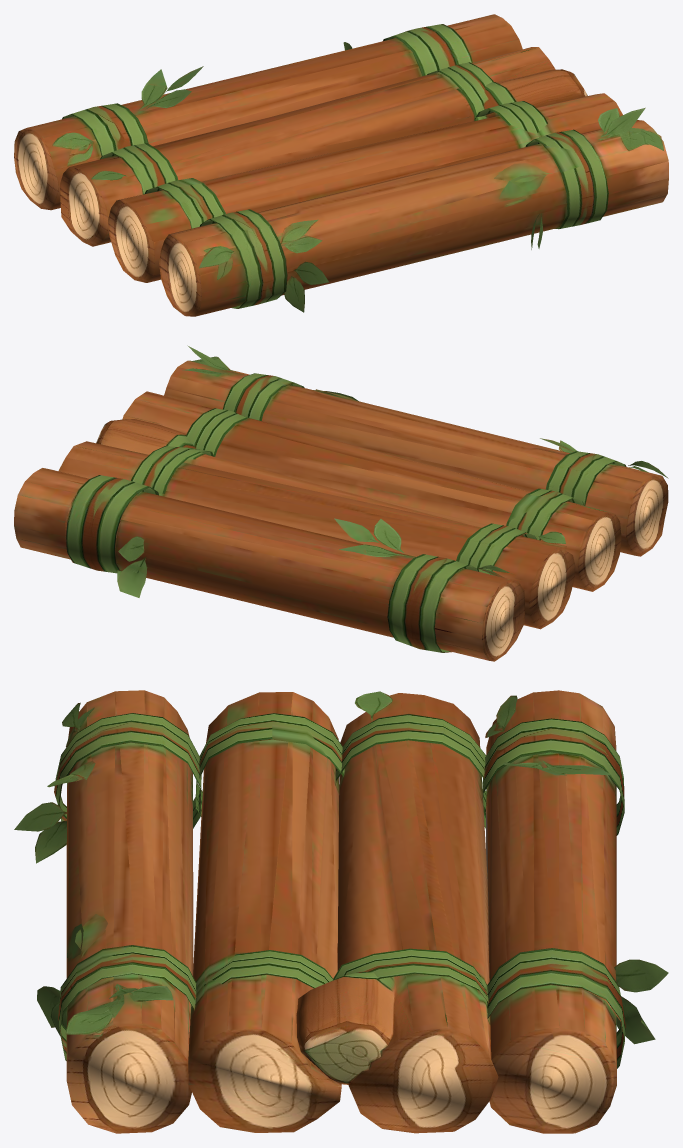
Rendered from Raft.fbx.
3 views of the same model, one above another, from view 1: azimuth 30°, elevation 25°; view 2: azimuth 150°, elevation 25°; view 3: azimuth 270°, elevation 25° (orthographic). The views are drawn at different scales.
Visible parts, largest first — view 1: Raft; view 2: Raft; view 3: Raft.
Part boxes in pixels (bbox=[...]): Raft: bbox=[14, 14, 668, 316]; Raft: bbox=[14, 345, 668, 661]; Raft: bbox=[14, 690, 668, 1133].
Size of the model in its own units: 2.2 by 0.4512 by 1.79.
1 material, 1 textured.
